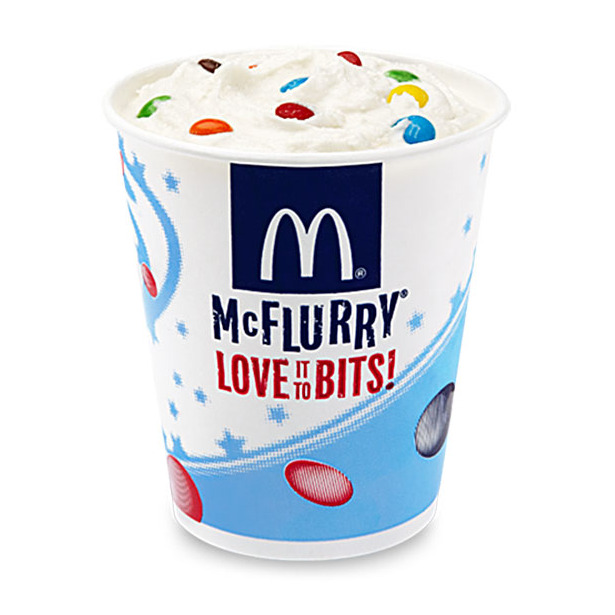mcdonalds: (250, 203, 358, 294)
